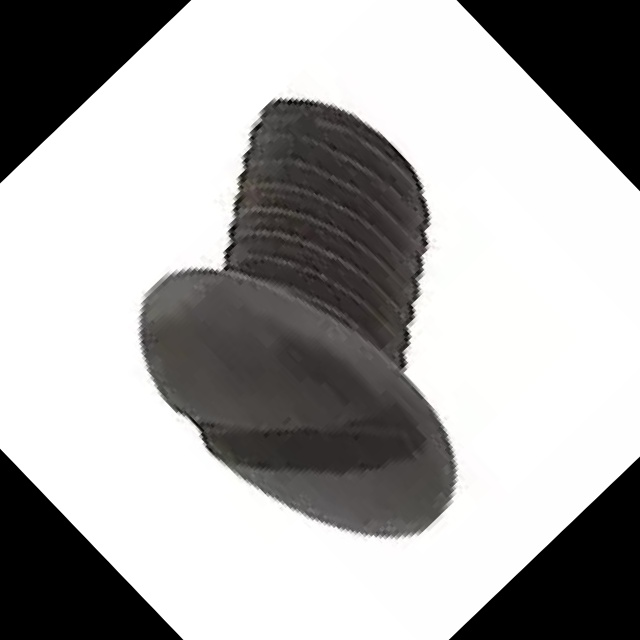duz: (99, 203, 494, 603)
